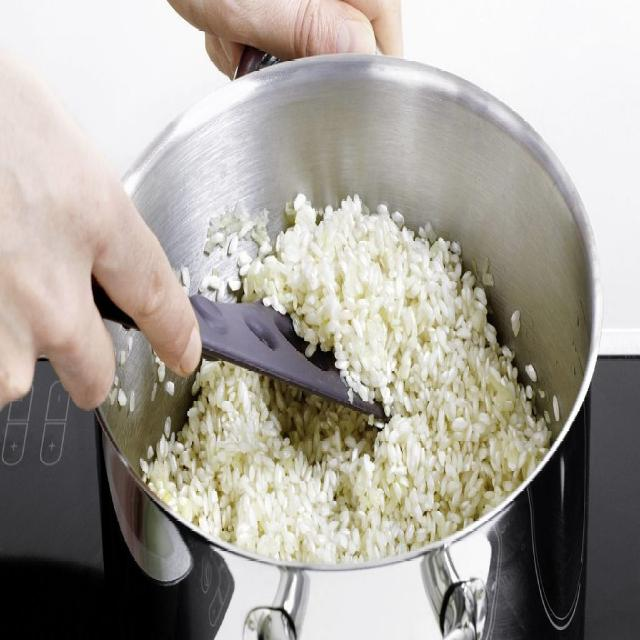arroz: (178, 156, 572, 596)
